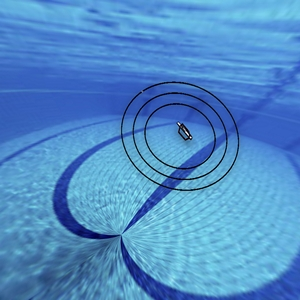circle: (103, 49, 247, 210)
submarine: (169, 114, 197, 148)
